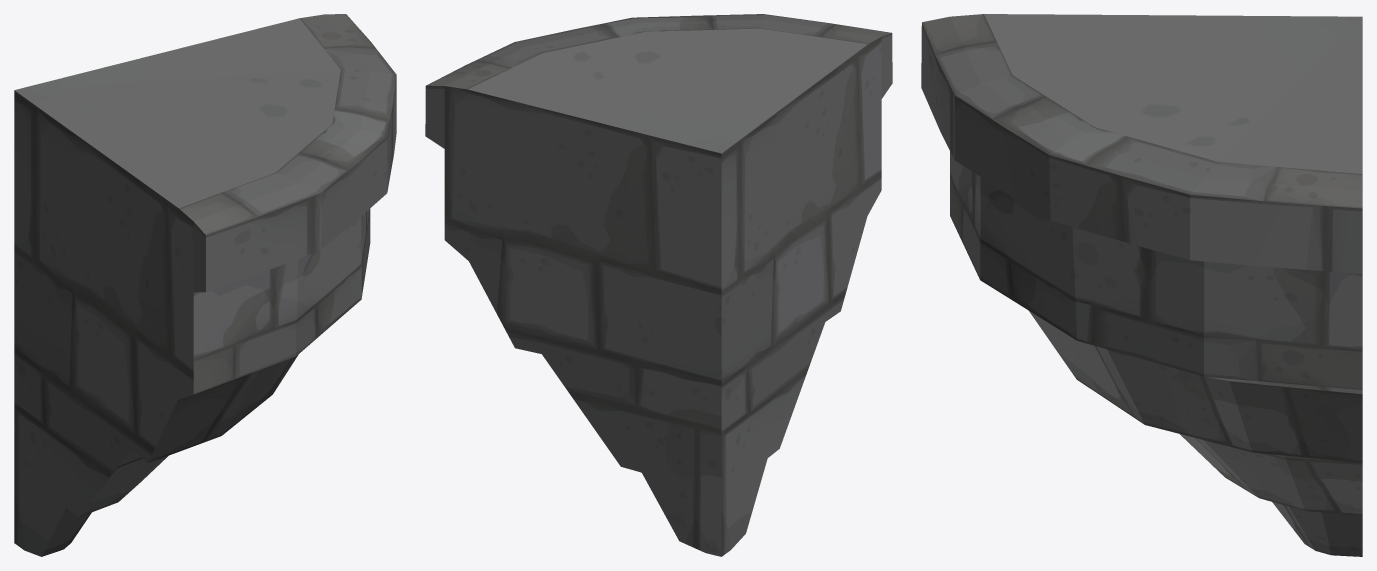
Rendered from SM_Bld_Wall_L_Curve_Base_01.fbx.
3 renders of one model, left to right at view 1: azimuth 30°, elevation 25°; view 2: azimuth 150°, elevation 25°; view 3: azimuth 270°, elevation 25°, orthographic. The views are drawn at different scales.
Parts seen in each view (by area): view 1: SM_Bld_Wall_L_Curve_Base_01; view 2: SM_Bld_Wall_L_Curve_Base_01; view 3: SM_Bld_Wall_L_Curve_Base_01.
Part boxes in pixels (<box>): SM_Bld_Wall_L_Curve_Base_01: <box>14,14,396,556</box>; SM_Bld_Wall_L_Curve_Base_01: <box>425,14,892,556</box>; SM_Bld_Wall_L_Curve_Base_01: <box>921,14,1362,556</box>.
Size of the model in its own units: 291 by 381 by 291.
